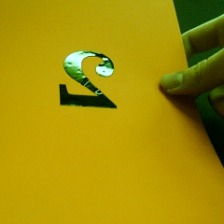orange2: (53, 47, 129, 115)
